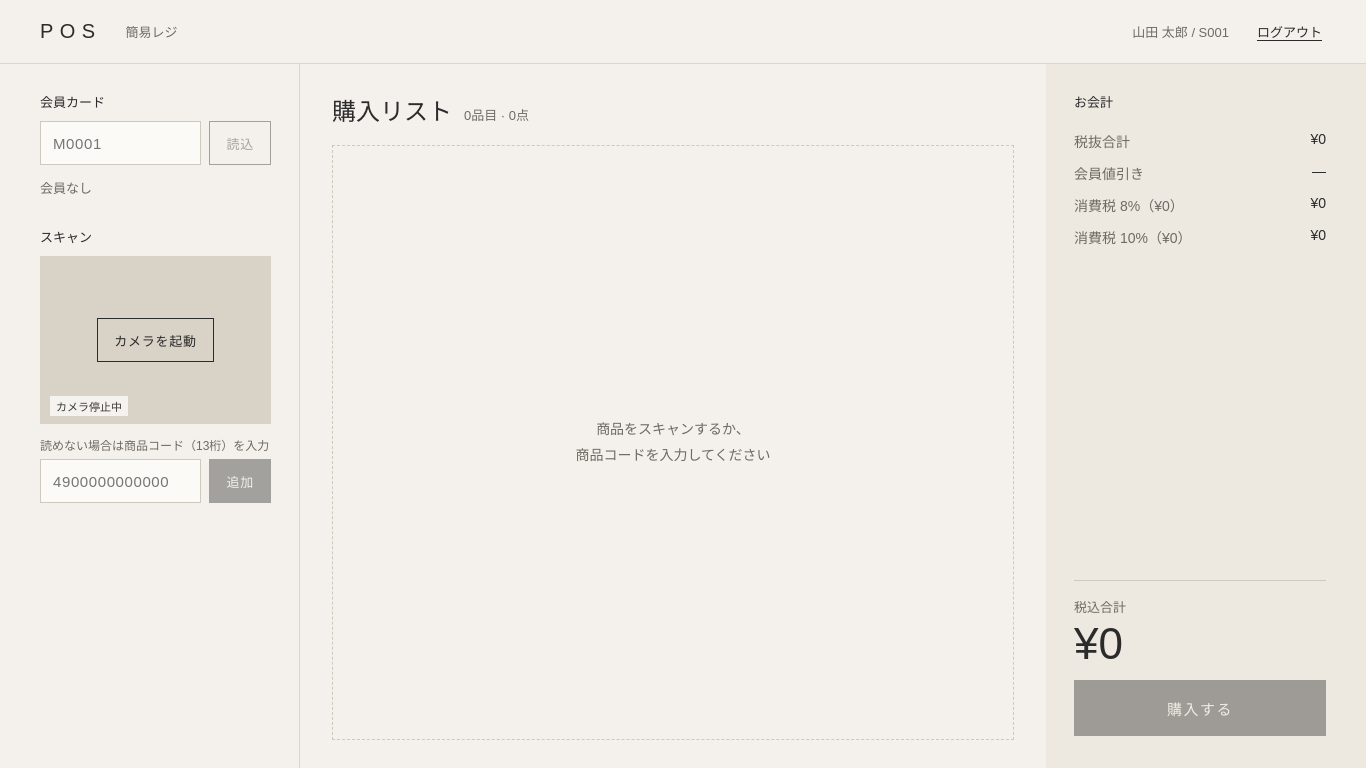
PosScreen › 未登録商品はリストに追加しない
Type "4999999999999" into the field labelled "読めない場合は商品コード（13桁）を入力" at point(121, 481), box [40,459,201,503]
Then press Enter
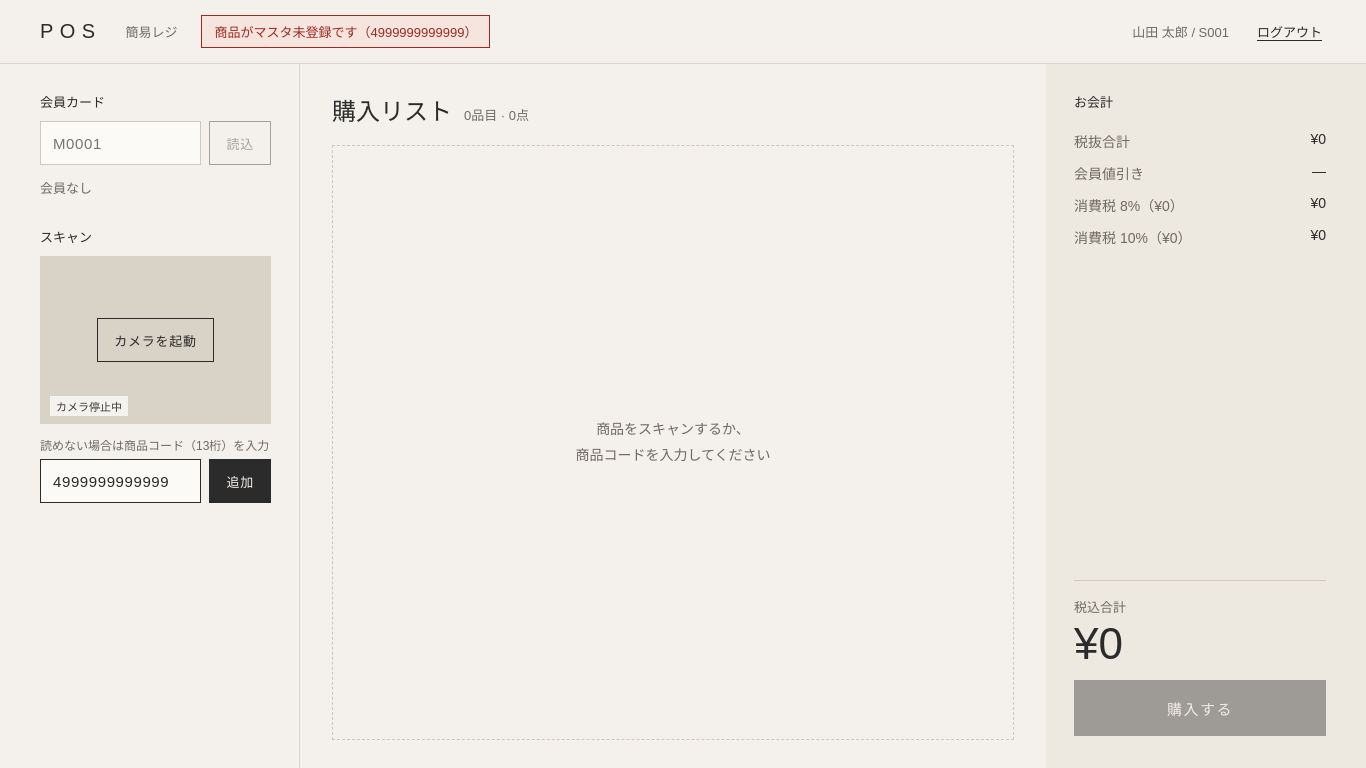
Expected: the text "0品目 · 0点" is shown, [464,105,529,124]
Expected: the text "商品がマスタ未登録です（4999999999999）" is shown, [202,15,490,48]
